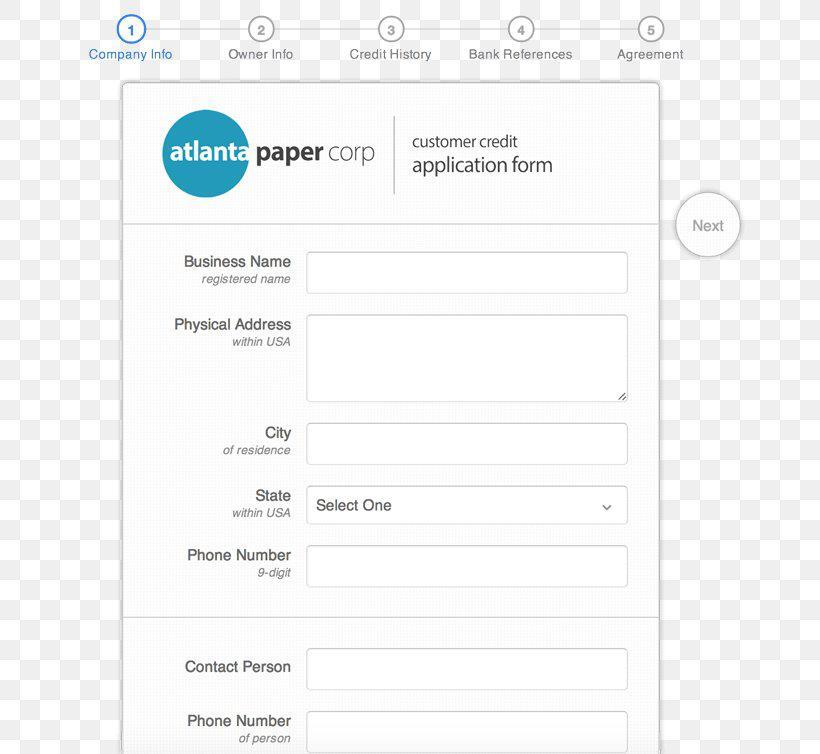dropdown: (309, 485, 627, 525)
input: (307, 648, 628, 692), (307, 424, 630, 467), (306, 253, 627, 296), (308, 546, 631, 587), (309, 713, 628, 753)
label: (180, 541, 294, 591), (168, 313, 297, 357), (180, 705, 299, 750), (182, 249, 300, 292), (210, 420, 299, 463), (180, 653, 295, 682), (225, 483, 295, 526)
